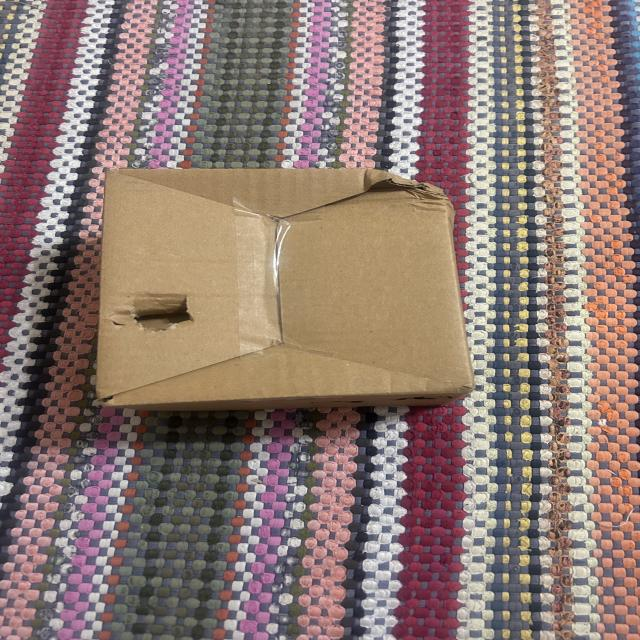damaged: (90, 159, 488, 423), (327, 152, 471, 223), (88, 278, 204, 343)
